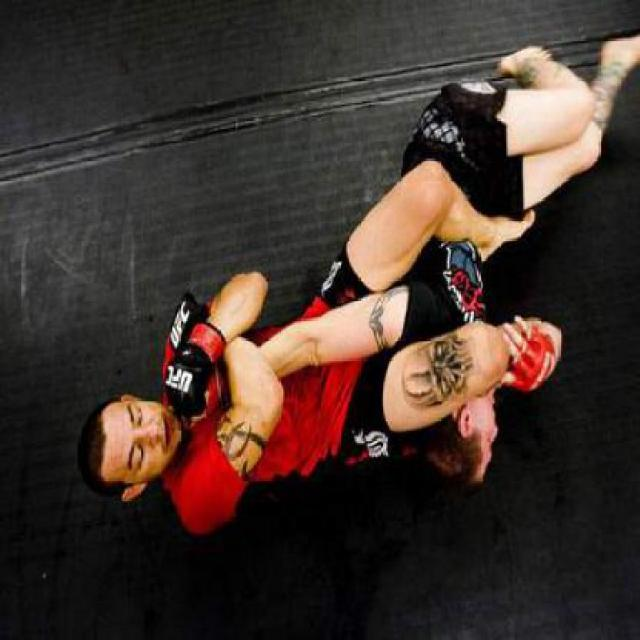fall: (65, 14, 562, 497)
